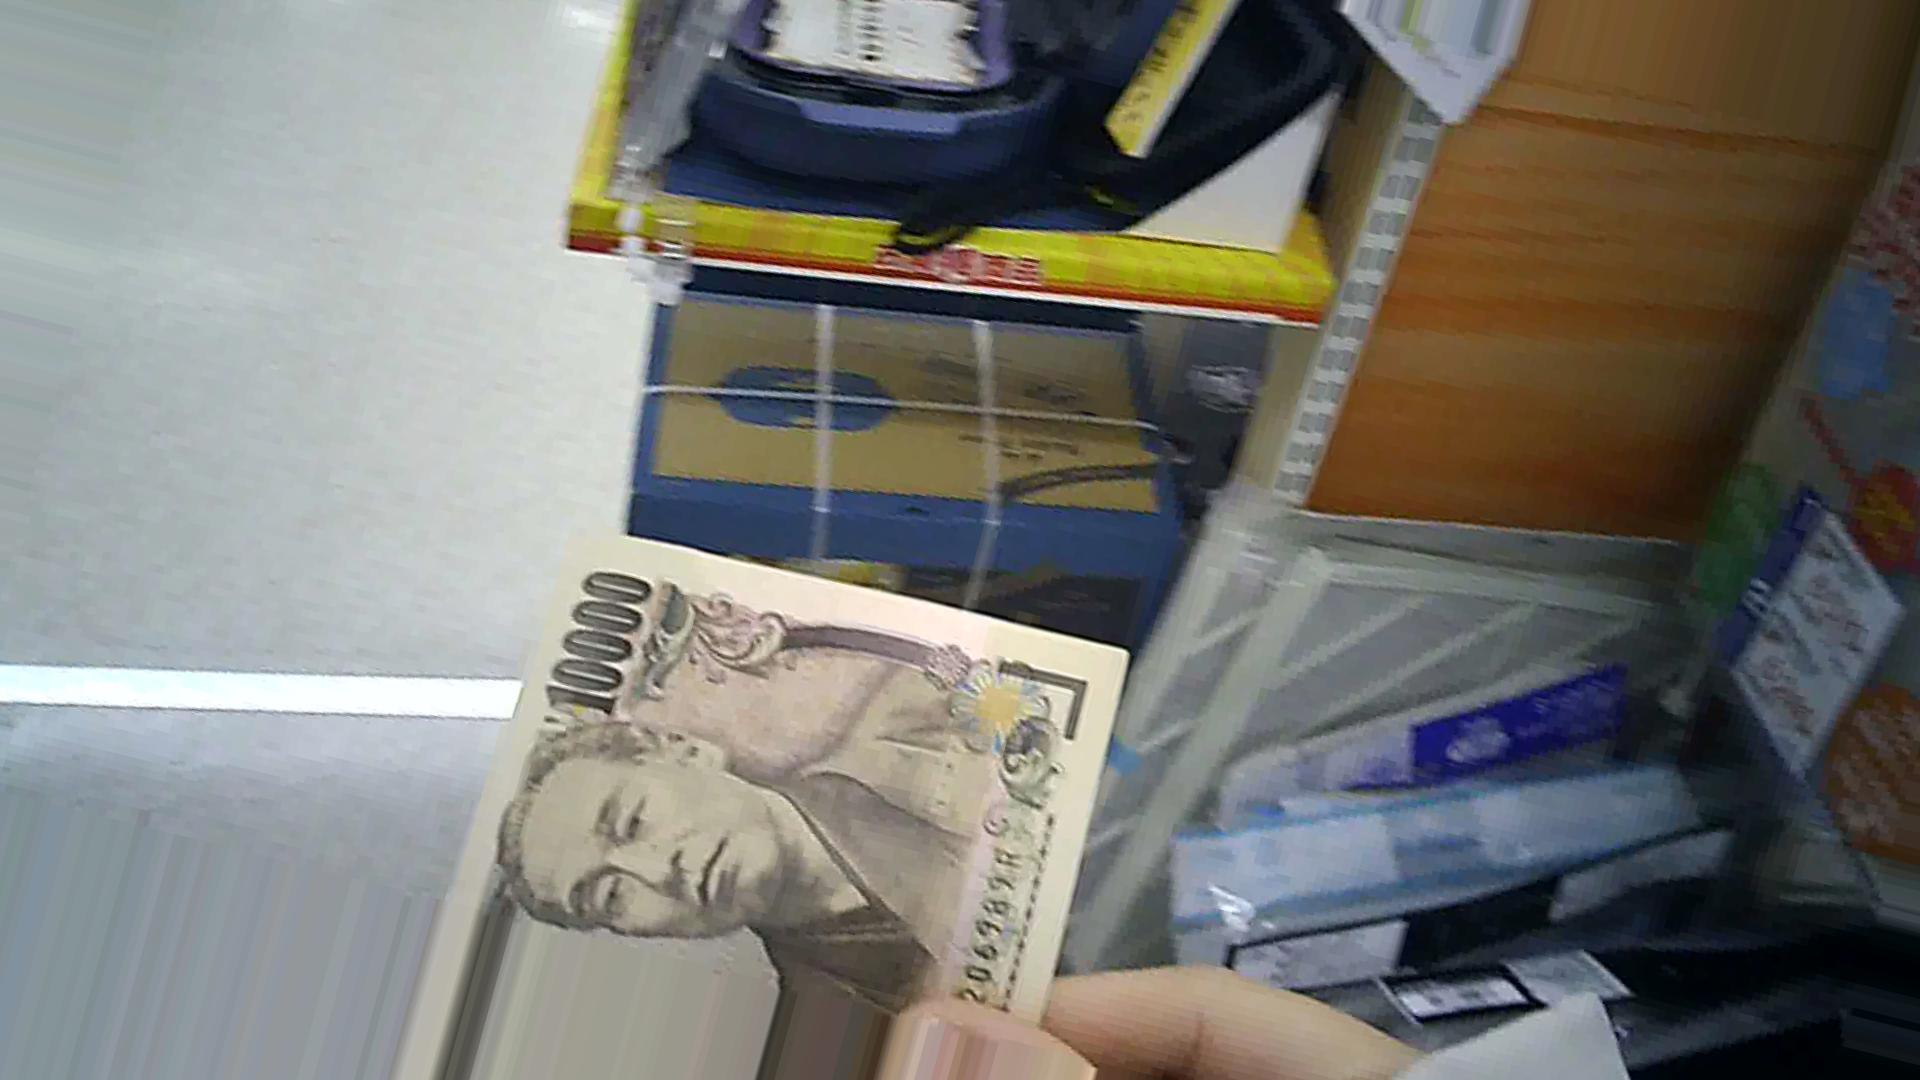10,000 Yen: (425, 524, 1142, 1059)
